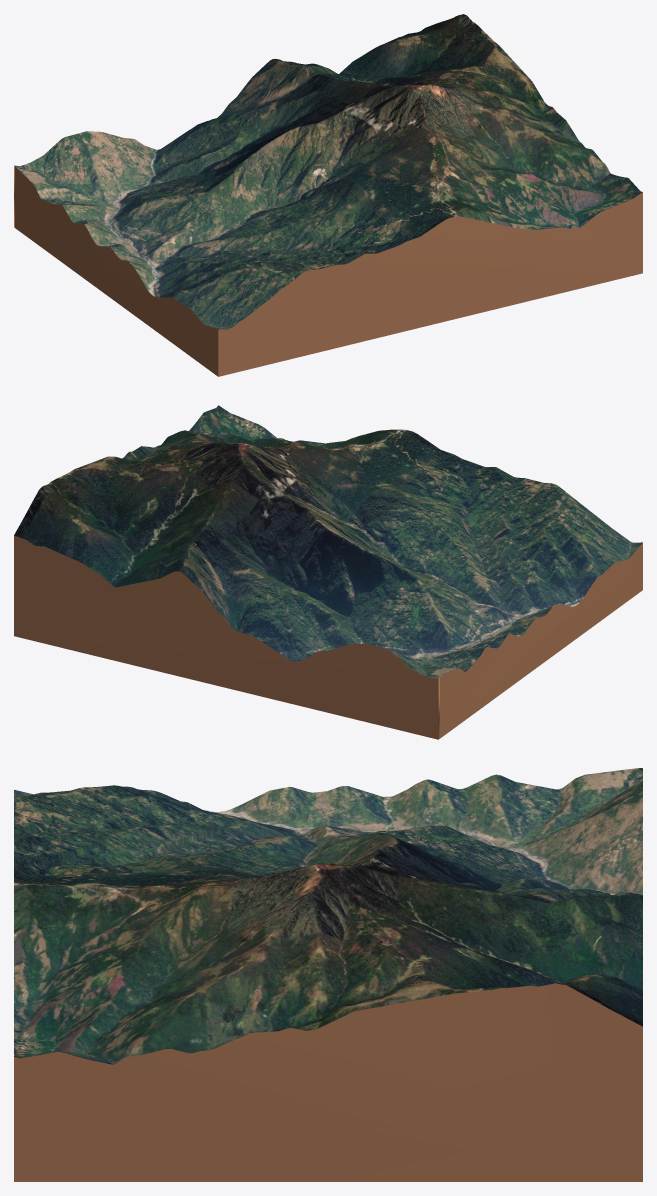
Rendered from MountainSceneNew.gltf.
3 renders of one model, top to bottom at view 1: azimuth 30°, elevation 25°; view 2: azimuth 150°, elevation 25°; view 3: azimuth 270°, elevation 25°, orthographic. The views are drawn at different scales.
Parts seen in each view (by area): view 1: Mukkumlung; view 2: Mukkumlung; view 3: Mukkumlung.
Part boxes in pixels (left/top/right/bottom): Mukkumlung: left=14, top=14, right=642, bottom=376; Mukkumlung: left=14, top=405, right=642, bottom=739; Mukkumlung: left=14, top=768, right=642, bottom=1181.
Bounding box in the file's own units: 285 × 92.87 × 238.
Materials: 1 (1 with a texture image).
